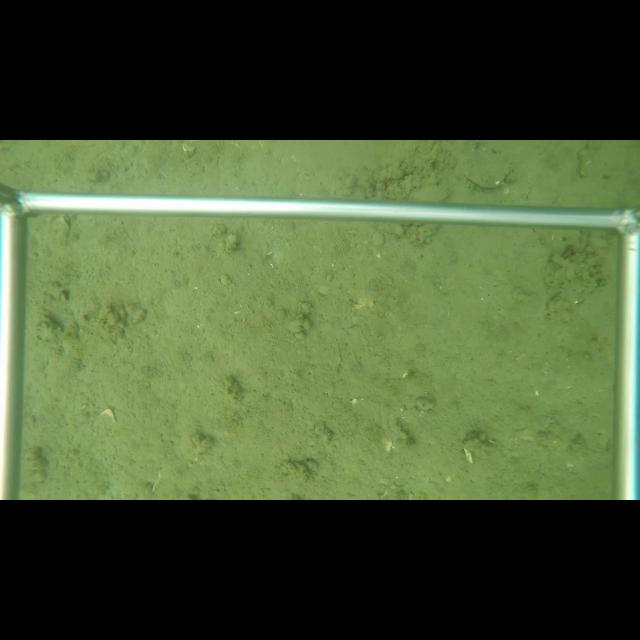Oyster-Closed: (455, 148, 517, 194)
